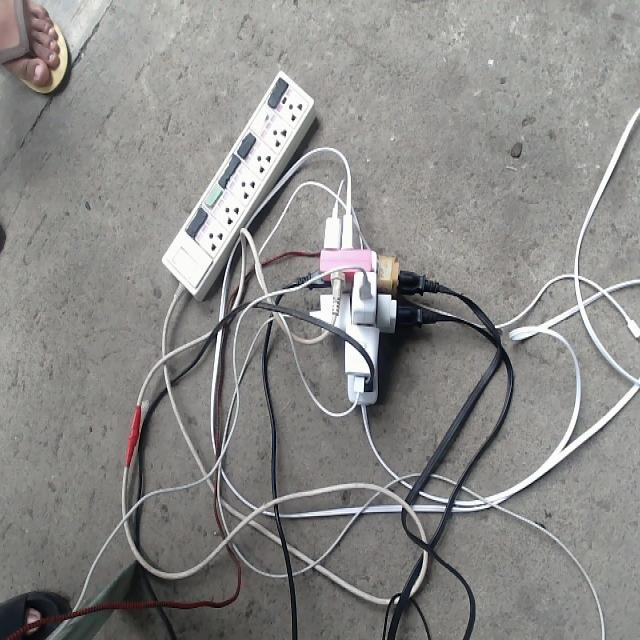-: (301, 212, 408, 407)
